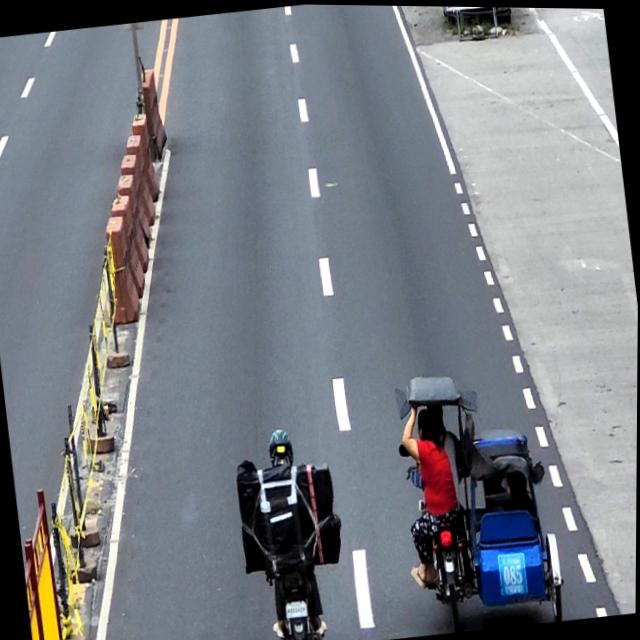License-Plate: (285, 598, 309, 618)
Motorcycle: (257, 491, 330, 640)
Tricycle: (389, 361, 571, 636)
